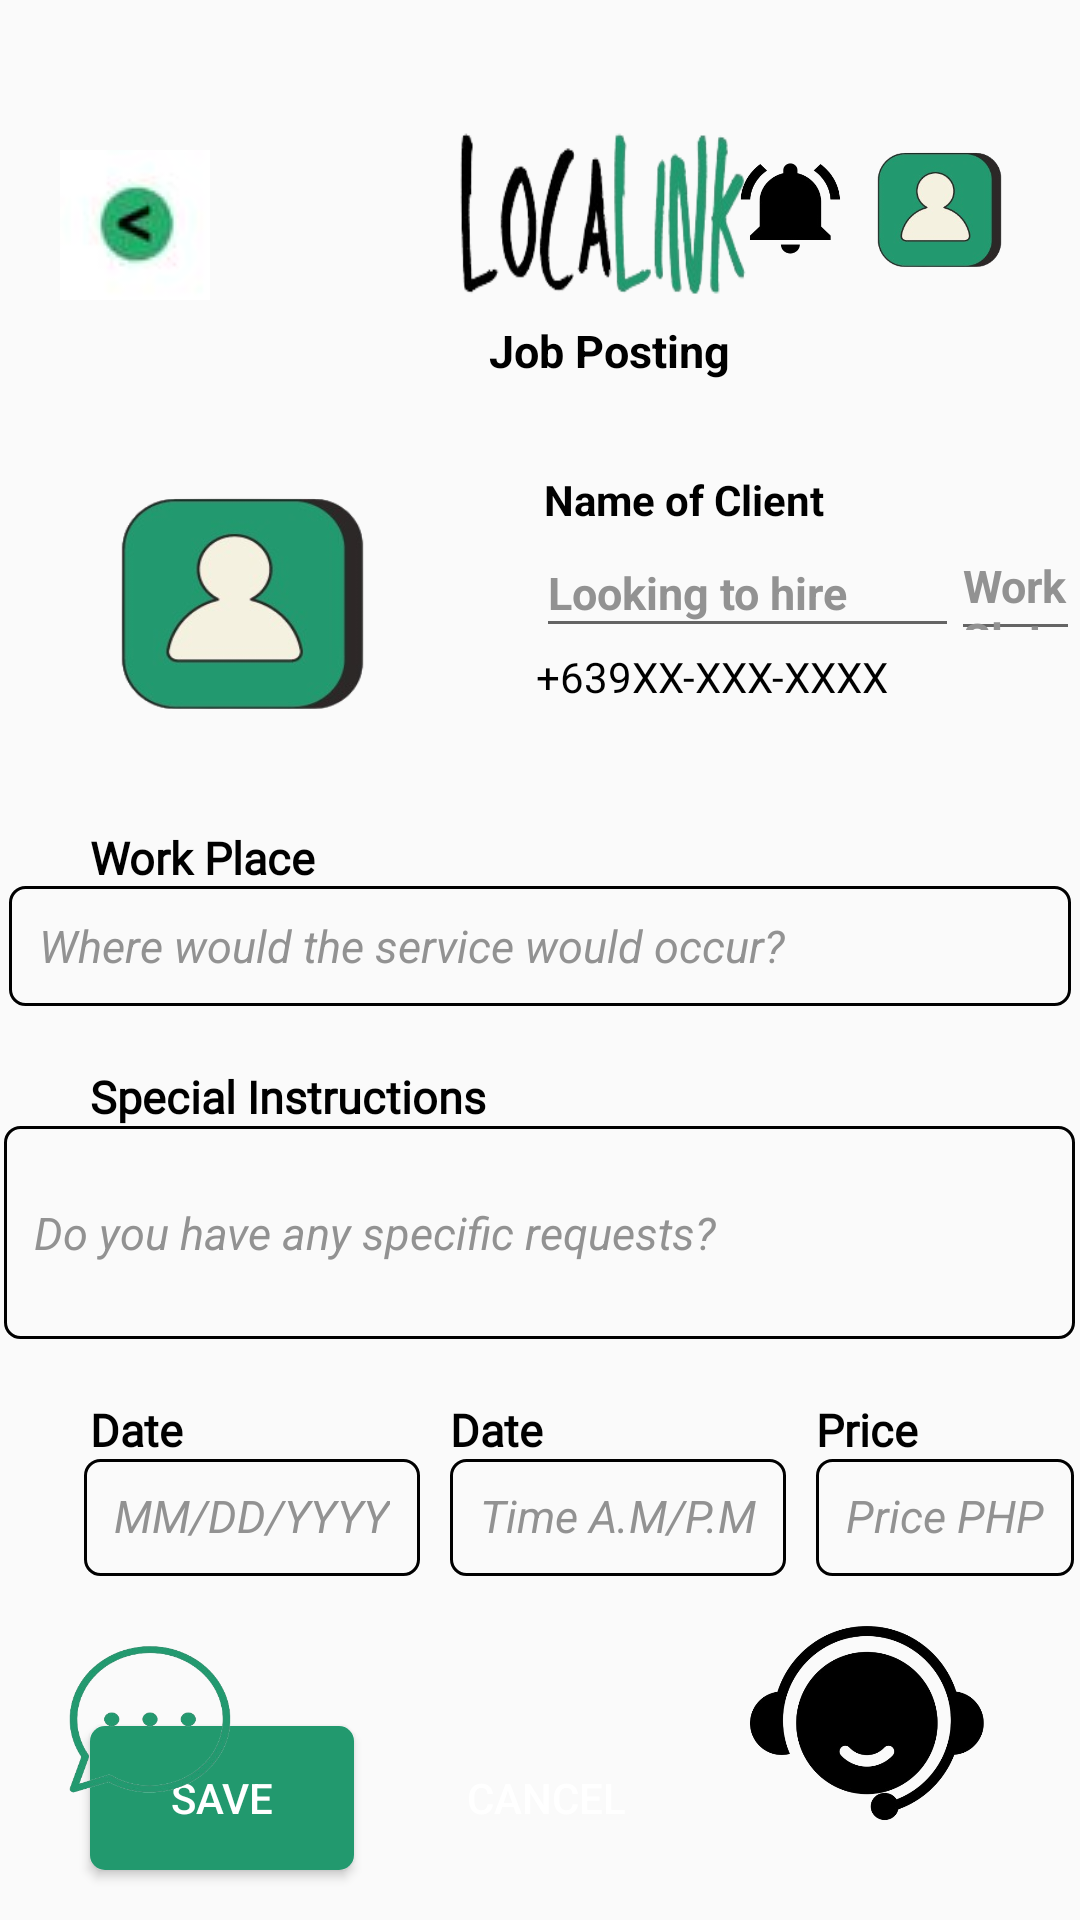

Icon bounding boxes for this 1080x1920 phone screenshot, format (x1, y1, x2, y2):
backbtn: (98, 184, 175, 265)
customer support: (750, 1626, 984, 1820)
